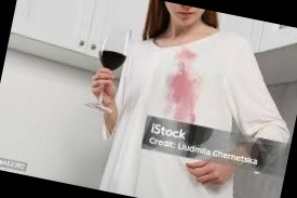wine: (162, 64, 210, 122), (172, 46, 200, 73)
